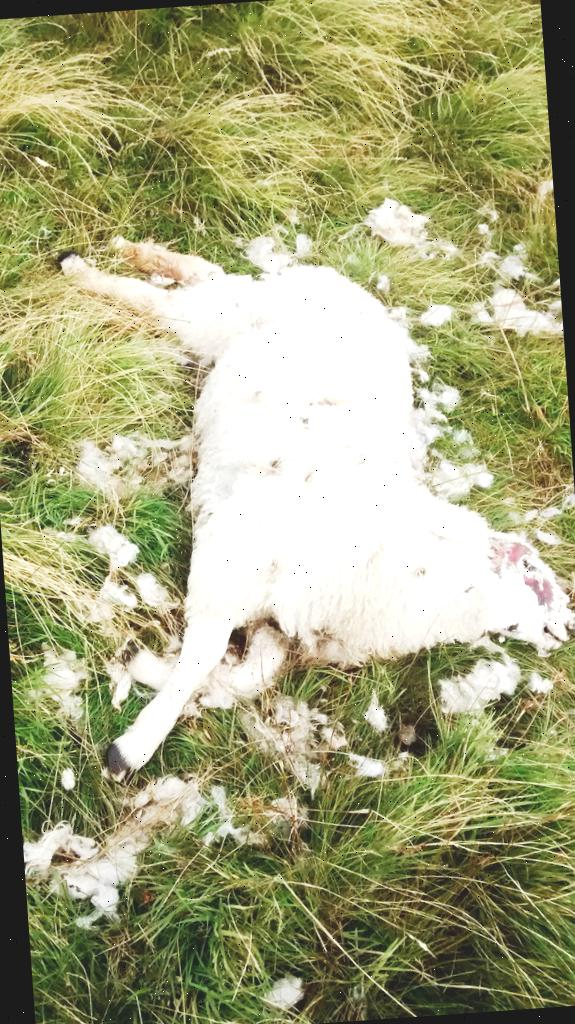Sheep: (50, 198, 575, 798)
